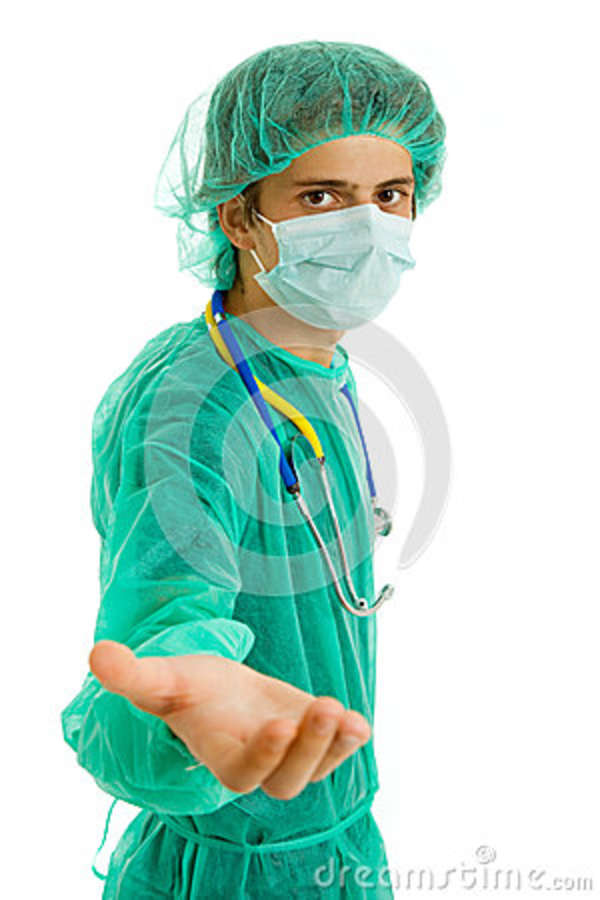mask: (264, 200, 405, 333)
